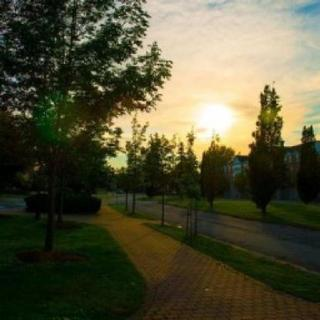Cirrostratus: (143, 0, 320, 141)
